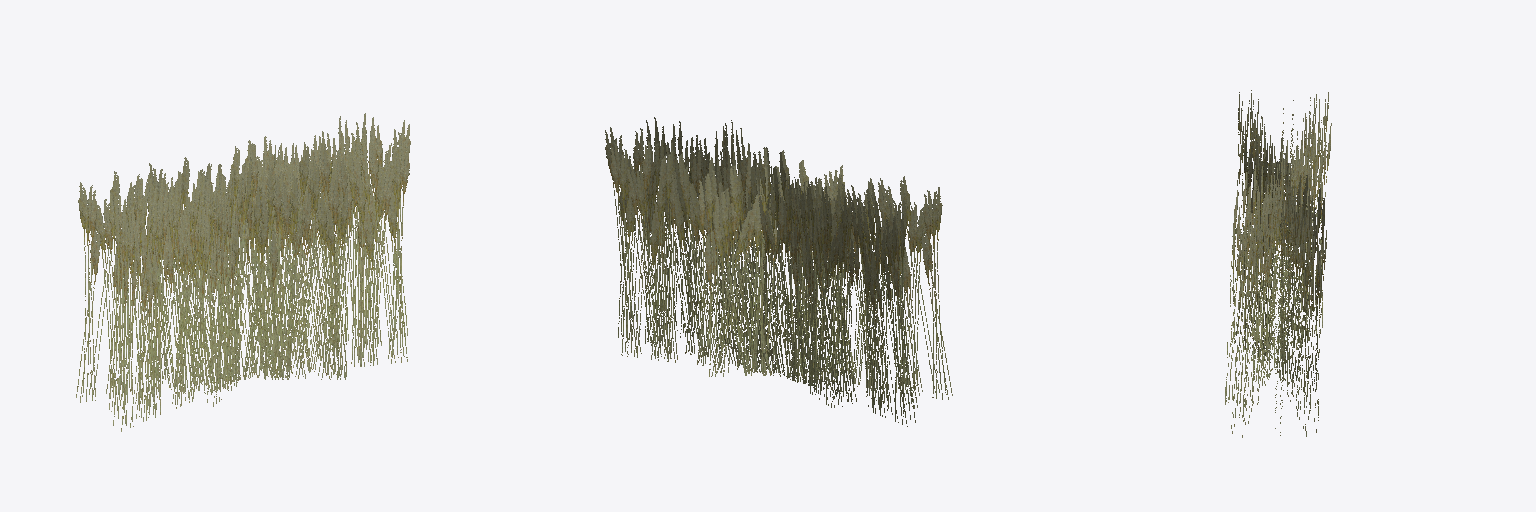
The picture shows the model from 3 angles: view 1: azimuth 30°, elevation 25°; view 2: azimuth 150°, elevation 25°; view 3: azimuth 270°, elevation 25°; orthographic projection.
Visible parts, largest first — view 1: polySurface3; view 2: polySurface3; view 3: polySurface3.
Boxes of the visible parts, box(x1,y1,x2,y2) form: polySurface3: box(76, 113, 410, 431); polySurface3: box(605, 117, 952, 426); polySurface3: box(1225, 90, 1331, 437).
Bounding box in the file's own units: 38.69 × 26.54 × 11.18.
1 materials, 1 textured.